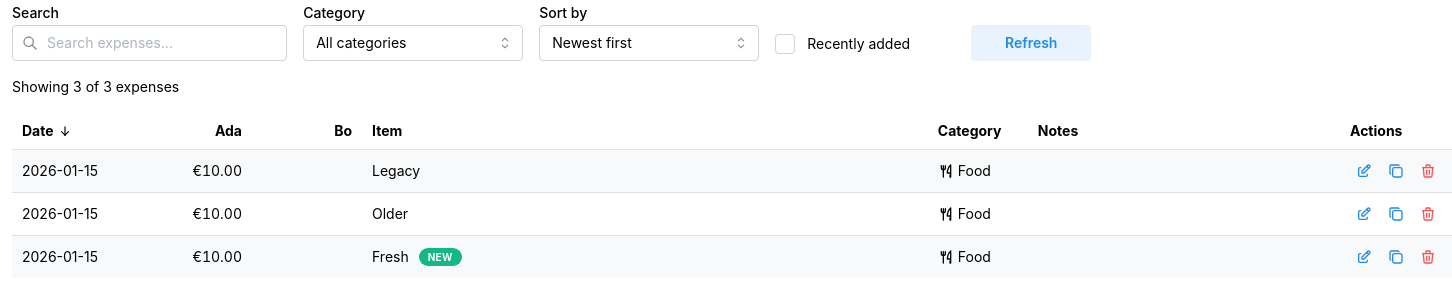
the recently-added filter › counts only what it matched
Click the checkbox labelled "Recently added" at (785, 44), box [775,34,795,54]
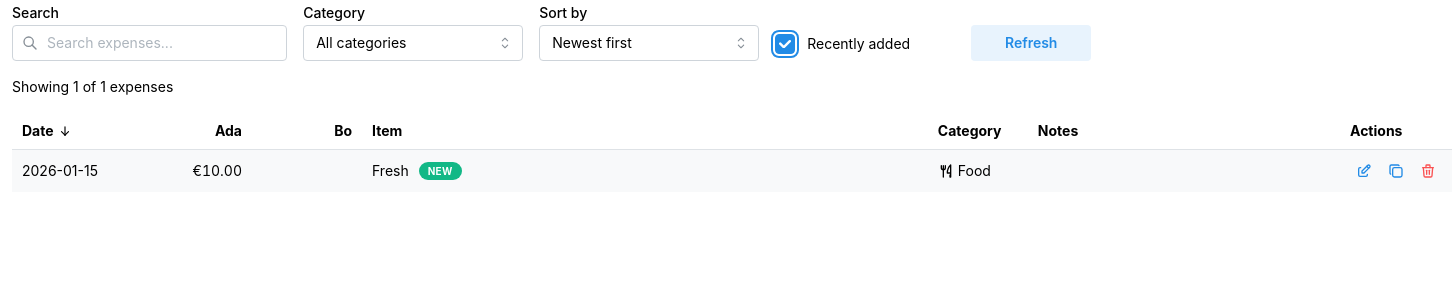
Expected: the text "Showing 1 of 1 expenses" is shown, [12,78,173,95]
